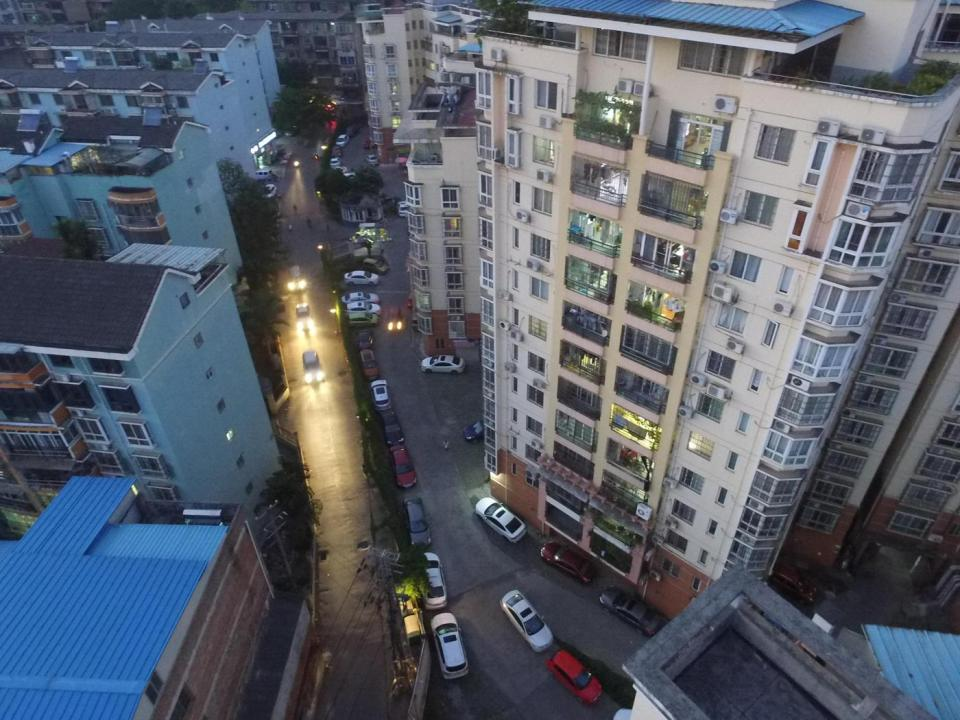car: (499, 590, 554, 653), (598, 586, 662, 636), (545, 650, 602, 706), (430, 612, 470, 681), (475, 497, 528, 544), (540, 540, 596, 584), (770, 564, 820, 602), (419, 552, 448, 610), (403, 496, 432, 548), (388, 444, 418, 489), (418, 354, 465, 374), (381, 412, 404, 445), (303, 350, 324, 385), (370, 380, 391, 412), (343, 301, 382, 317), (295, 303, 314, 334), (361, 348, 379, 380), (343, 312, 378, 328), (343, 270, 380, 285), (462, 419, 484, 444), (362, 257, 390, 275), (341, 291, 379, 304), (387, 306, 403, 332), (358, 328, 373, 350), (260, 184, 278, 199), (336, 135, 350, 148), (397, 200, 407, 218), (366, 154, 378, 166), (330, 157, 341, 170), (331, 145, 342, 157), (361, 137, 372, 149), (334, 166, 348, 174), (336, 96, 345, 106)
van: (286, 266, 305, 292), (253, 168, 273, 181)
